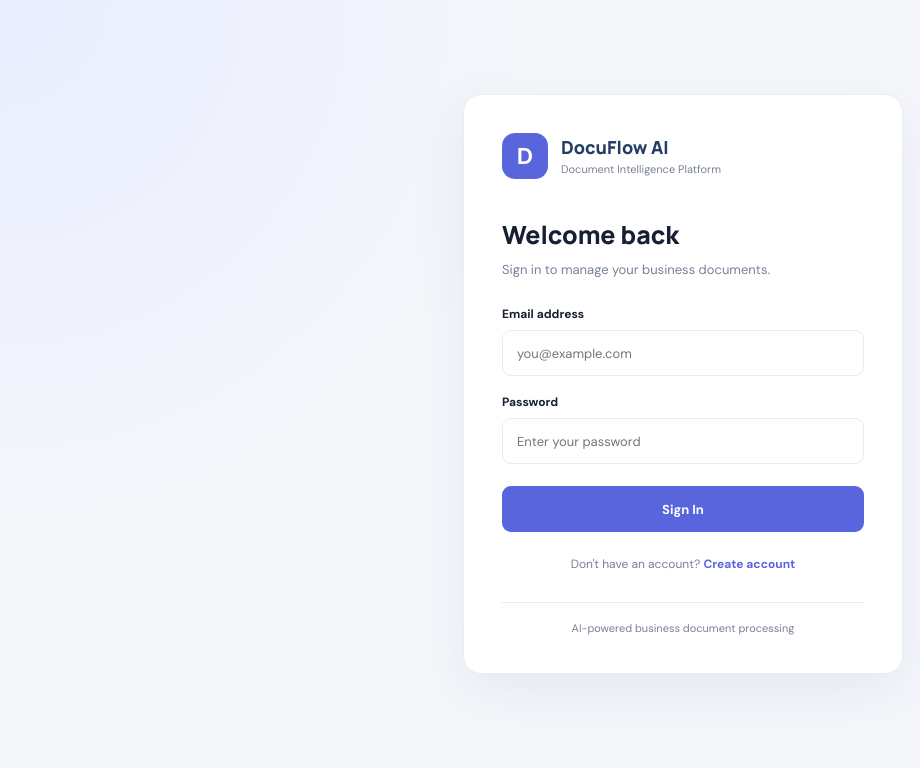
Test case: AuthScreen › shows an error when registration passwords do not match
Click the button "Create account" at (749, 564), box [703, 556, 795, 572]
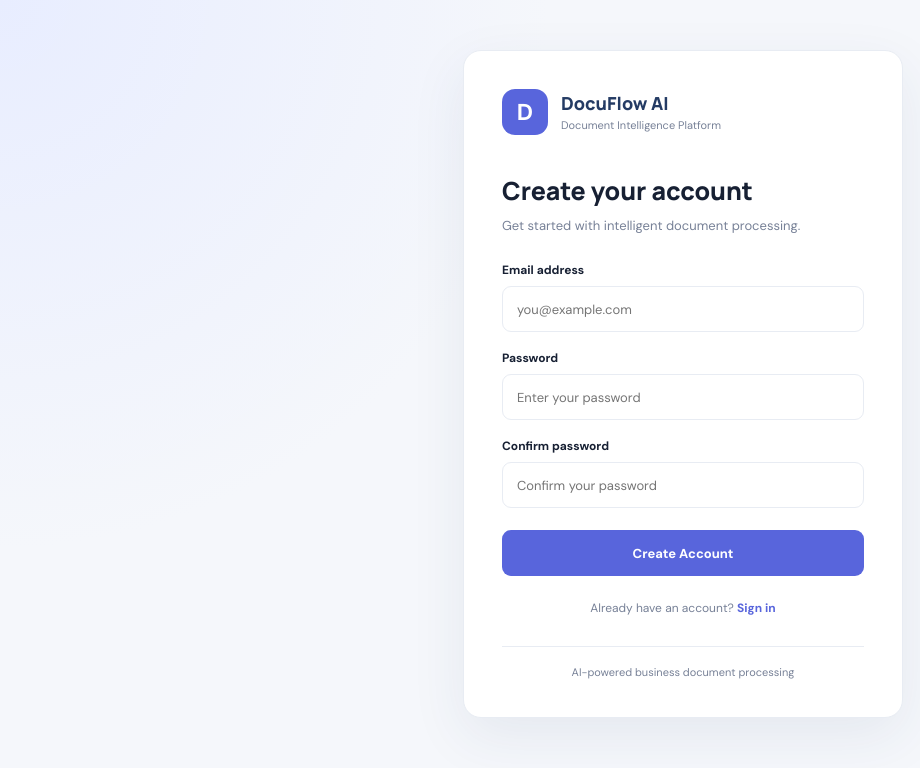
Type "test@example.com" into the field labelled "Email address" at (683, 309), box [502, 286, 864, 332]
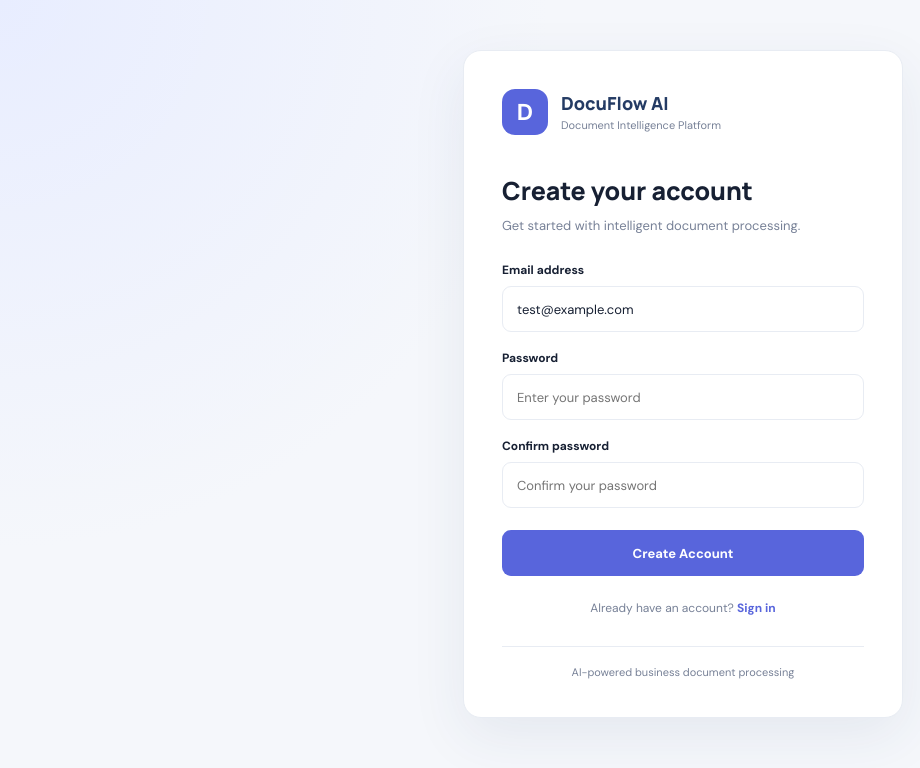
Type "password123" into the password field labelled "Password" at (683, 397), box [502, 374, 864, 420]
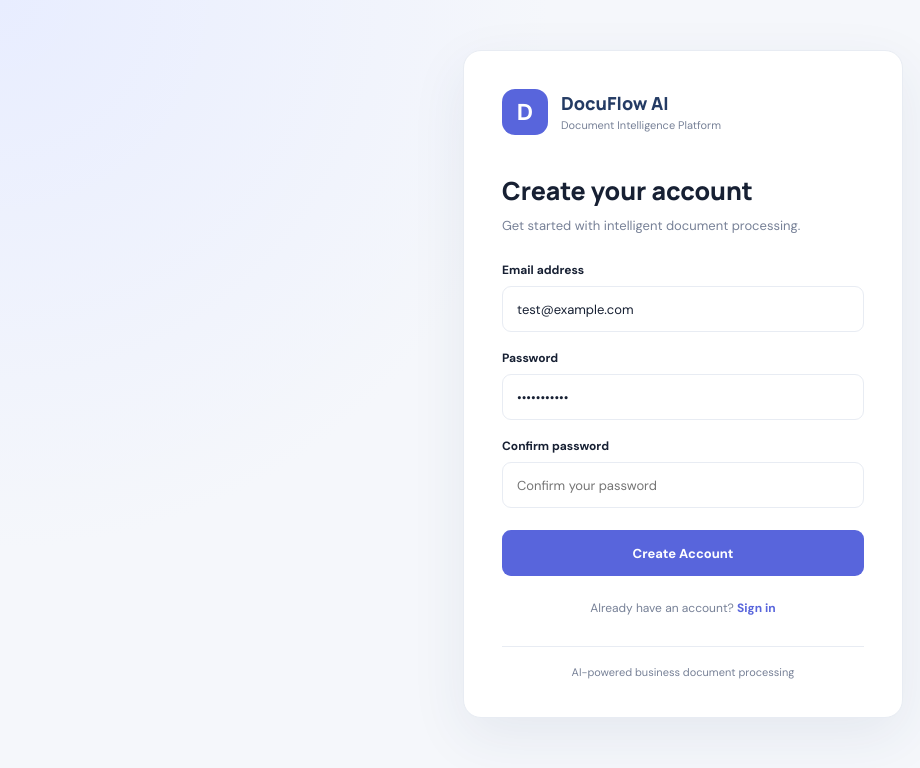
Type "different123" into the password field labelled "Confirm password" at (683, 485), box [502, 462, 864, 508]
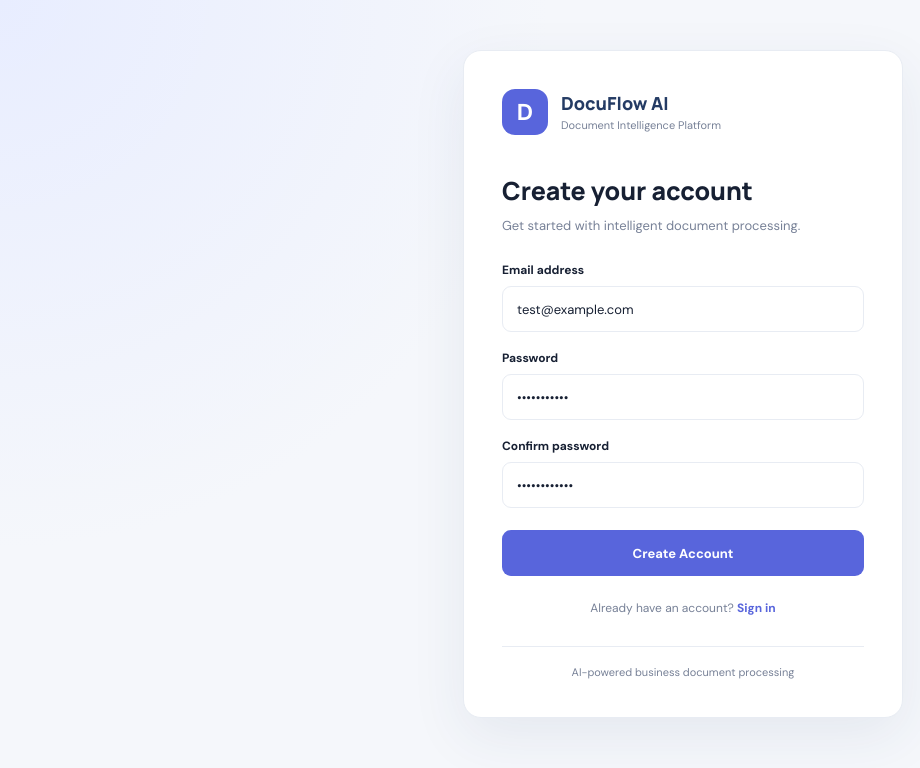
Click the button "Create Account" at (683, 553), box [502, 530, 864, 576]
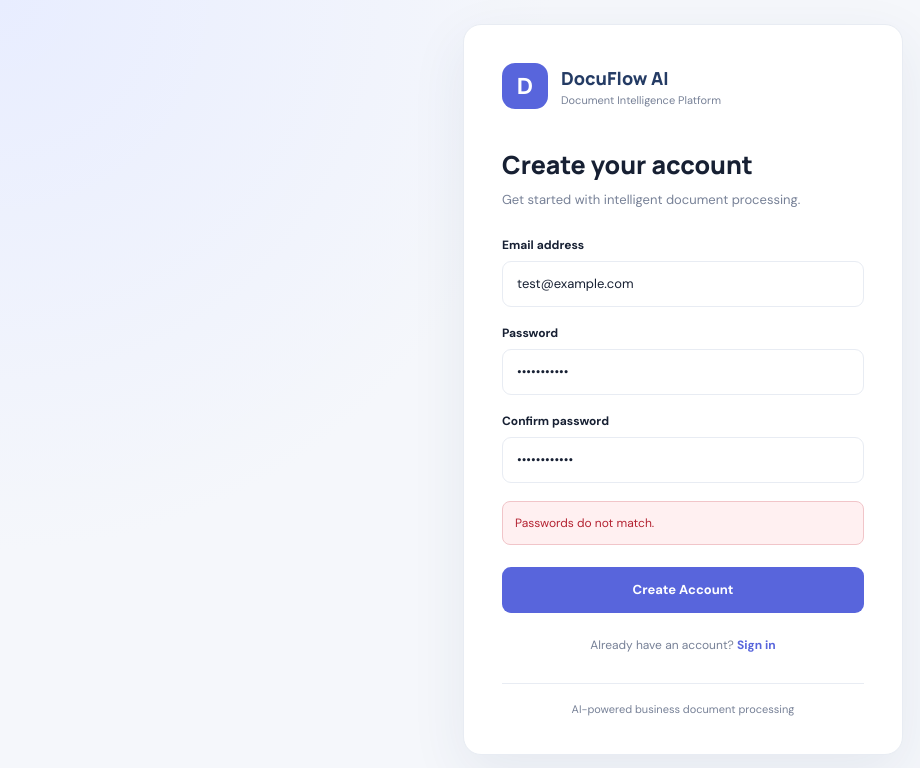
Expected: the text "Passwords do not match." is shown, [502, 501, 864, 545]
